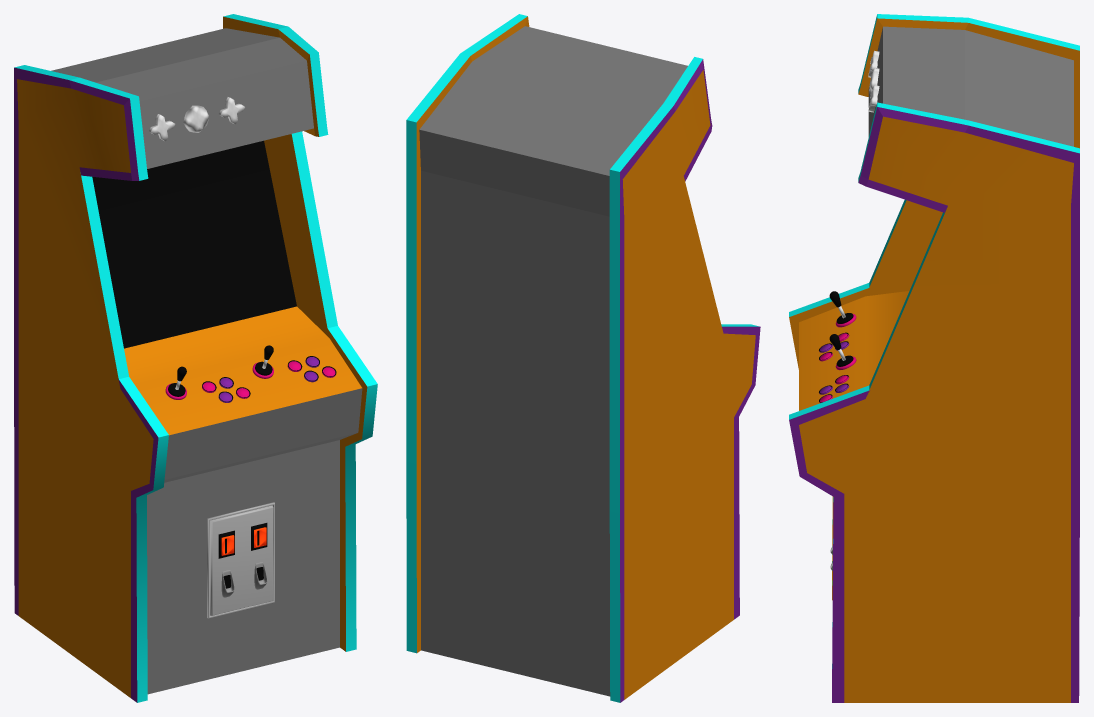
File: arcade-cabinet.fbx
The picture shows the model from 3 angles, left to right: view 1: azimuth 30°, elevation 25°; view 2: azimuth 150°, elevation 25°; view 3: azimuth 270°, elevation 25°; orthographic projection. The views are drawn at different scales.
Parts seen in each view (by area): view 1: Cabinet, Plane, Plane.002; view 2: Cabinet; view 3: Cabinet.
Part boxes in pixels (x1,y1,x2,y2): Cabinet: (14,14,377,702); Plane: (207,502,274,618); Plane.002: (221,562,267,597); Cabinet: (406,14,760,702); Cabinet: (789,14,1079,702).
Bounding box in the file's own units: 258 × 656 × 294.
